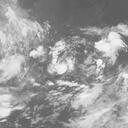cyclone: (32, 44, 95, 103)
